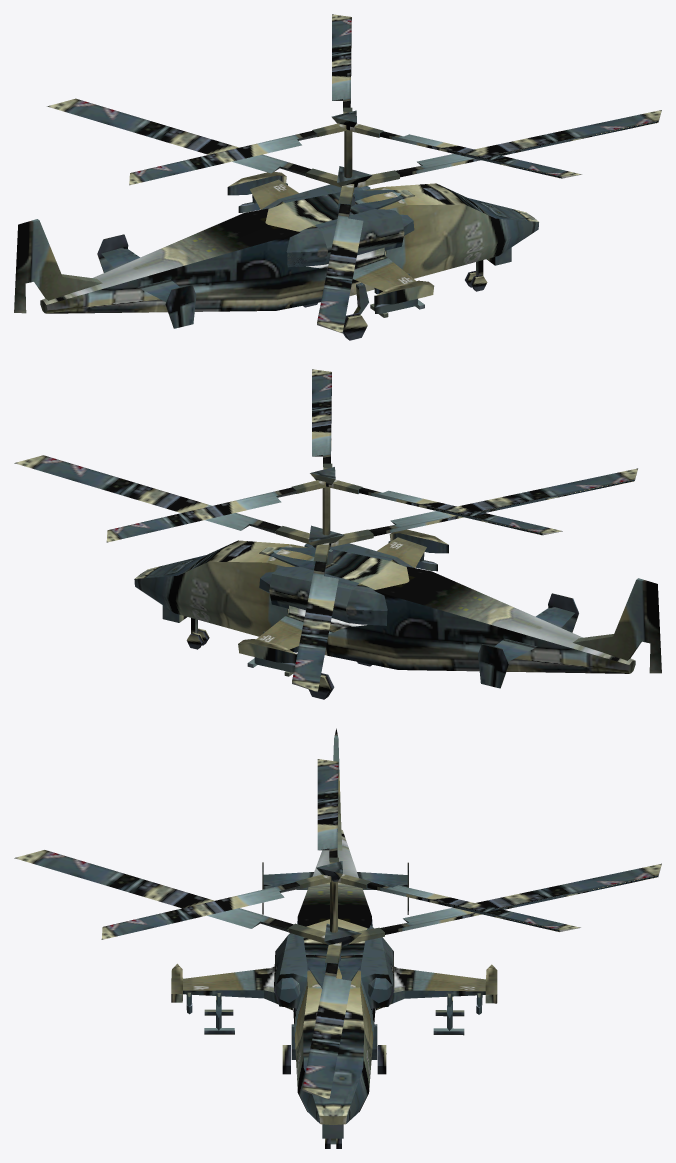
Rendered from Break_Bots_MB_BRC01.fbx.
The picture shows the model from 3 angles, top to bottom: view 1: azimuth 30°, elevation 25°; view 2: azimuth 150°, elevation 25°; view 3: azimuth 270°, elevation 25°; orthographic projection. The views are drawn at different scales.
Visible parts, largest first — view 1: Brake_11, Brake_09, Brake_03, Brake_02, Brake_07, Brake_01, Brake_06, Brake_08, Brake_04; view 2: Brake_11, Brake_09, Brake_03, Brake_02, Brake_07, Brake_08, Brake_06, Brake_01, Brake_04, Brake_10; view 3: Brake_11, Brake_09, Brake_03, Brake_02, Brake_08, Brake_01, Brake_06.
Part boxes in pixels (x1,y1,x2,y2): Brake_11: [40, 183, 538, 340]; Brake_09: [317, 110, 661, 333]; Brake_03: [129, 14, 356, 185]; Brake_02: [47, 98, 341, 187]; Brake_07: [14, 219, 102, 313]; Brake_01: [306, 247, 434, 317]; Brake_06: [350, 123, 581, 178]; Brake_08: [227, 172, 298, 212]; Brake_04: [465, 247, 511, 291]; Brake_11: [134, 540, 635, 688]; Brake_09: [14, 455, 637, 548]; Brake_03: [106, 467, 562, 542]; Brake_02: [292, 543, 338, 692]; Brake_07: [573, 578, 661, 673]; Brake_08: [238, 605, 366, 676]; Brake_06: [312, 369, 332, 469]; Brake_01: [377, 529, 448, 571]; Brake_04: [162, 605, 209, 649]; Brake_10: [322, 486, 333, 564]; Brake_11: [262, 829, 408, 1124]; Brake_09: [14, 850, 361, 1099]; Brake_03: [316, 759, 580, 931]; Brake_02: [349, 863, 661, 944]; Brake_08: [375, 964, 497, 1035]; Brake_01: [171, 963, 292, 1034]; Brake_06: [101, 874, 331, 939].
Bounding box in the file's own units: 1753 × 525 × 1444.
